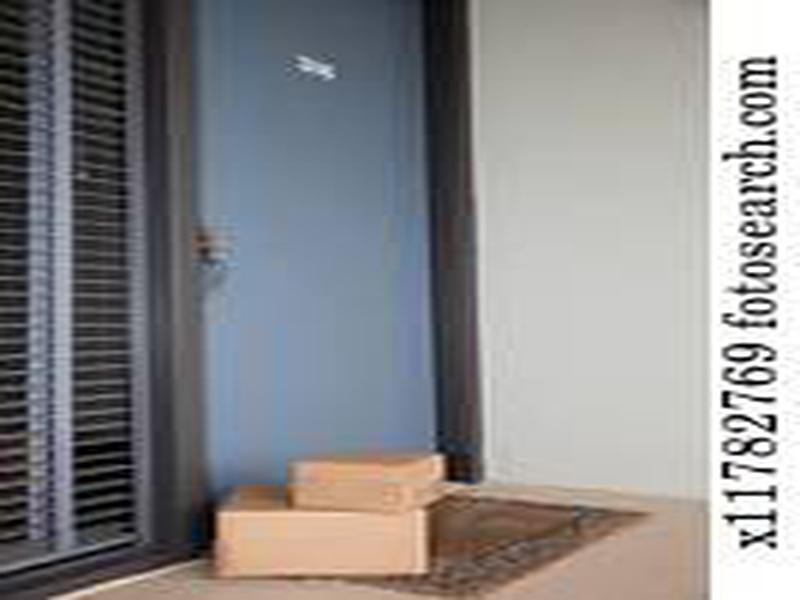package: (208, 479, 436, 583), (279, 444, 451, 515)
